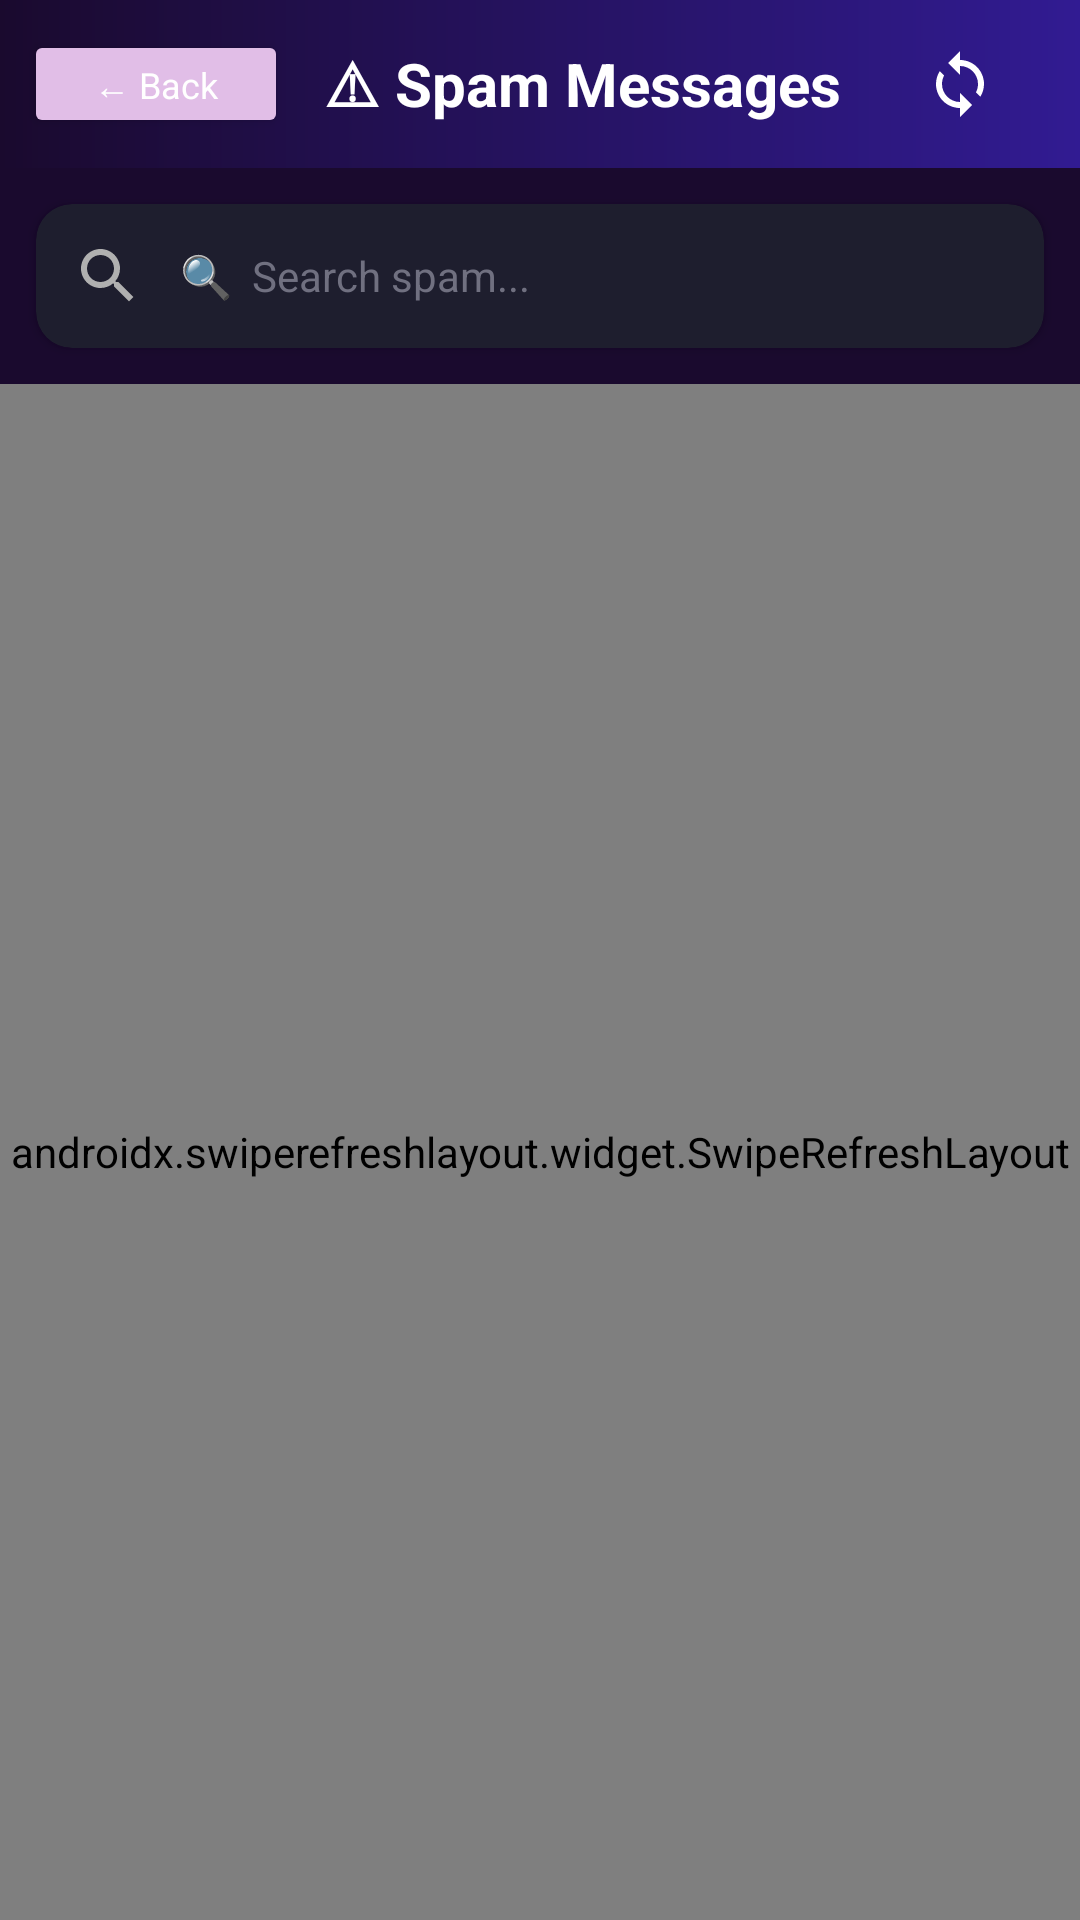

Where to tap for icons on this 1080×1920 app screen, as [x,y]:
Sync Global Blacklist: [960,84]
